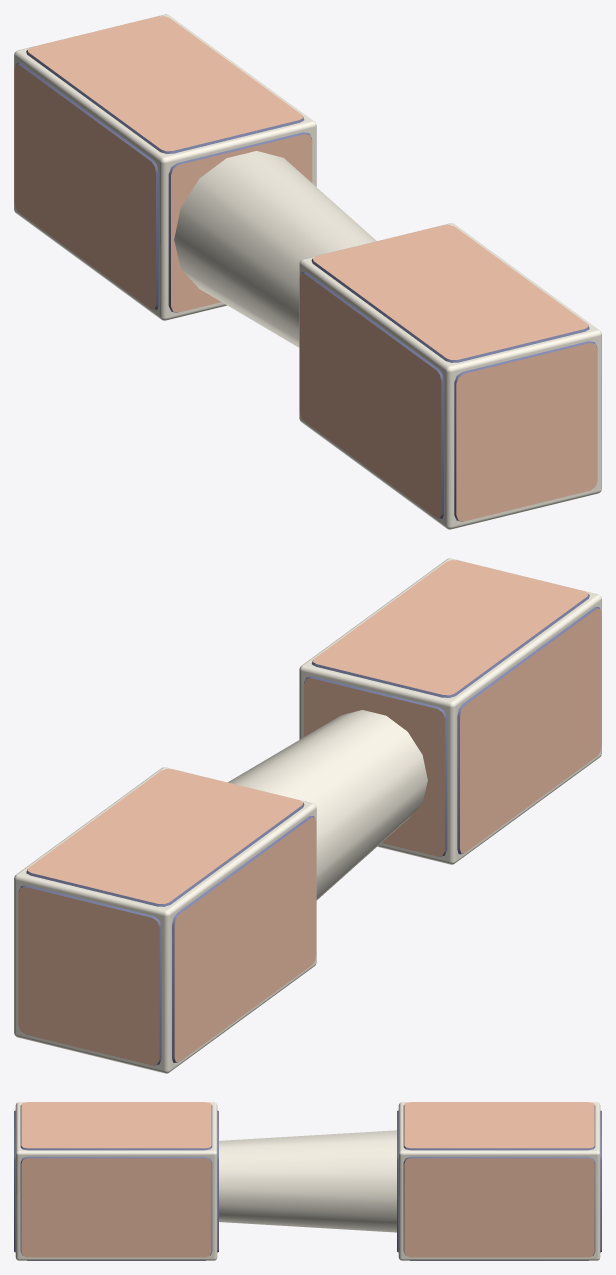
File: R4C_ROD_SHORT.fbx
3 renders of one model, top to bottom at view 1: azimuth 30°, elevation 25°; view 2: azimuth 150°, elevation 25°; view 3: azimuth 270°, elevation 25°, orthographic. The views are drawn at different scales.
Parts seen in each view (by area): view 1: R4C_ROD_SHORT; view 2: R4C_ROD_SHORT; view 3: R4C_ROD_SHORT.
Boxes of the visible parts, x1,y1,x2,y2 form: R4C_ROD_SHORT: (14,14,601,529); R4C_ROD_SHORT: (14,558,601,1073); R4C_ROD_SHORT: (14,1102,601,1260).
Bounding box in the file's own units: 0.226 × 0.226 × 1.07.
